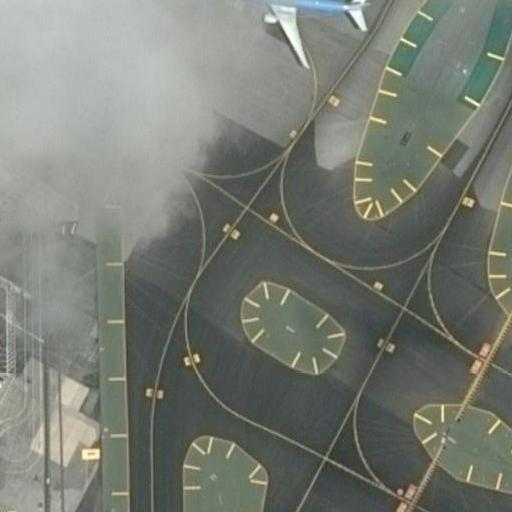Aircraft: (210, 0, 376, 66)
